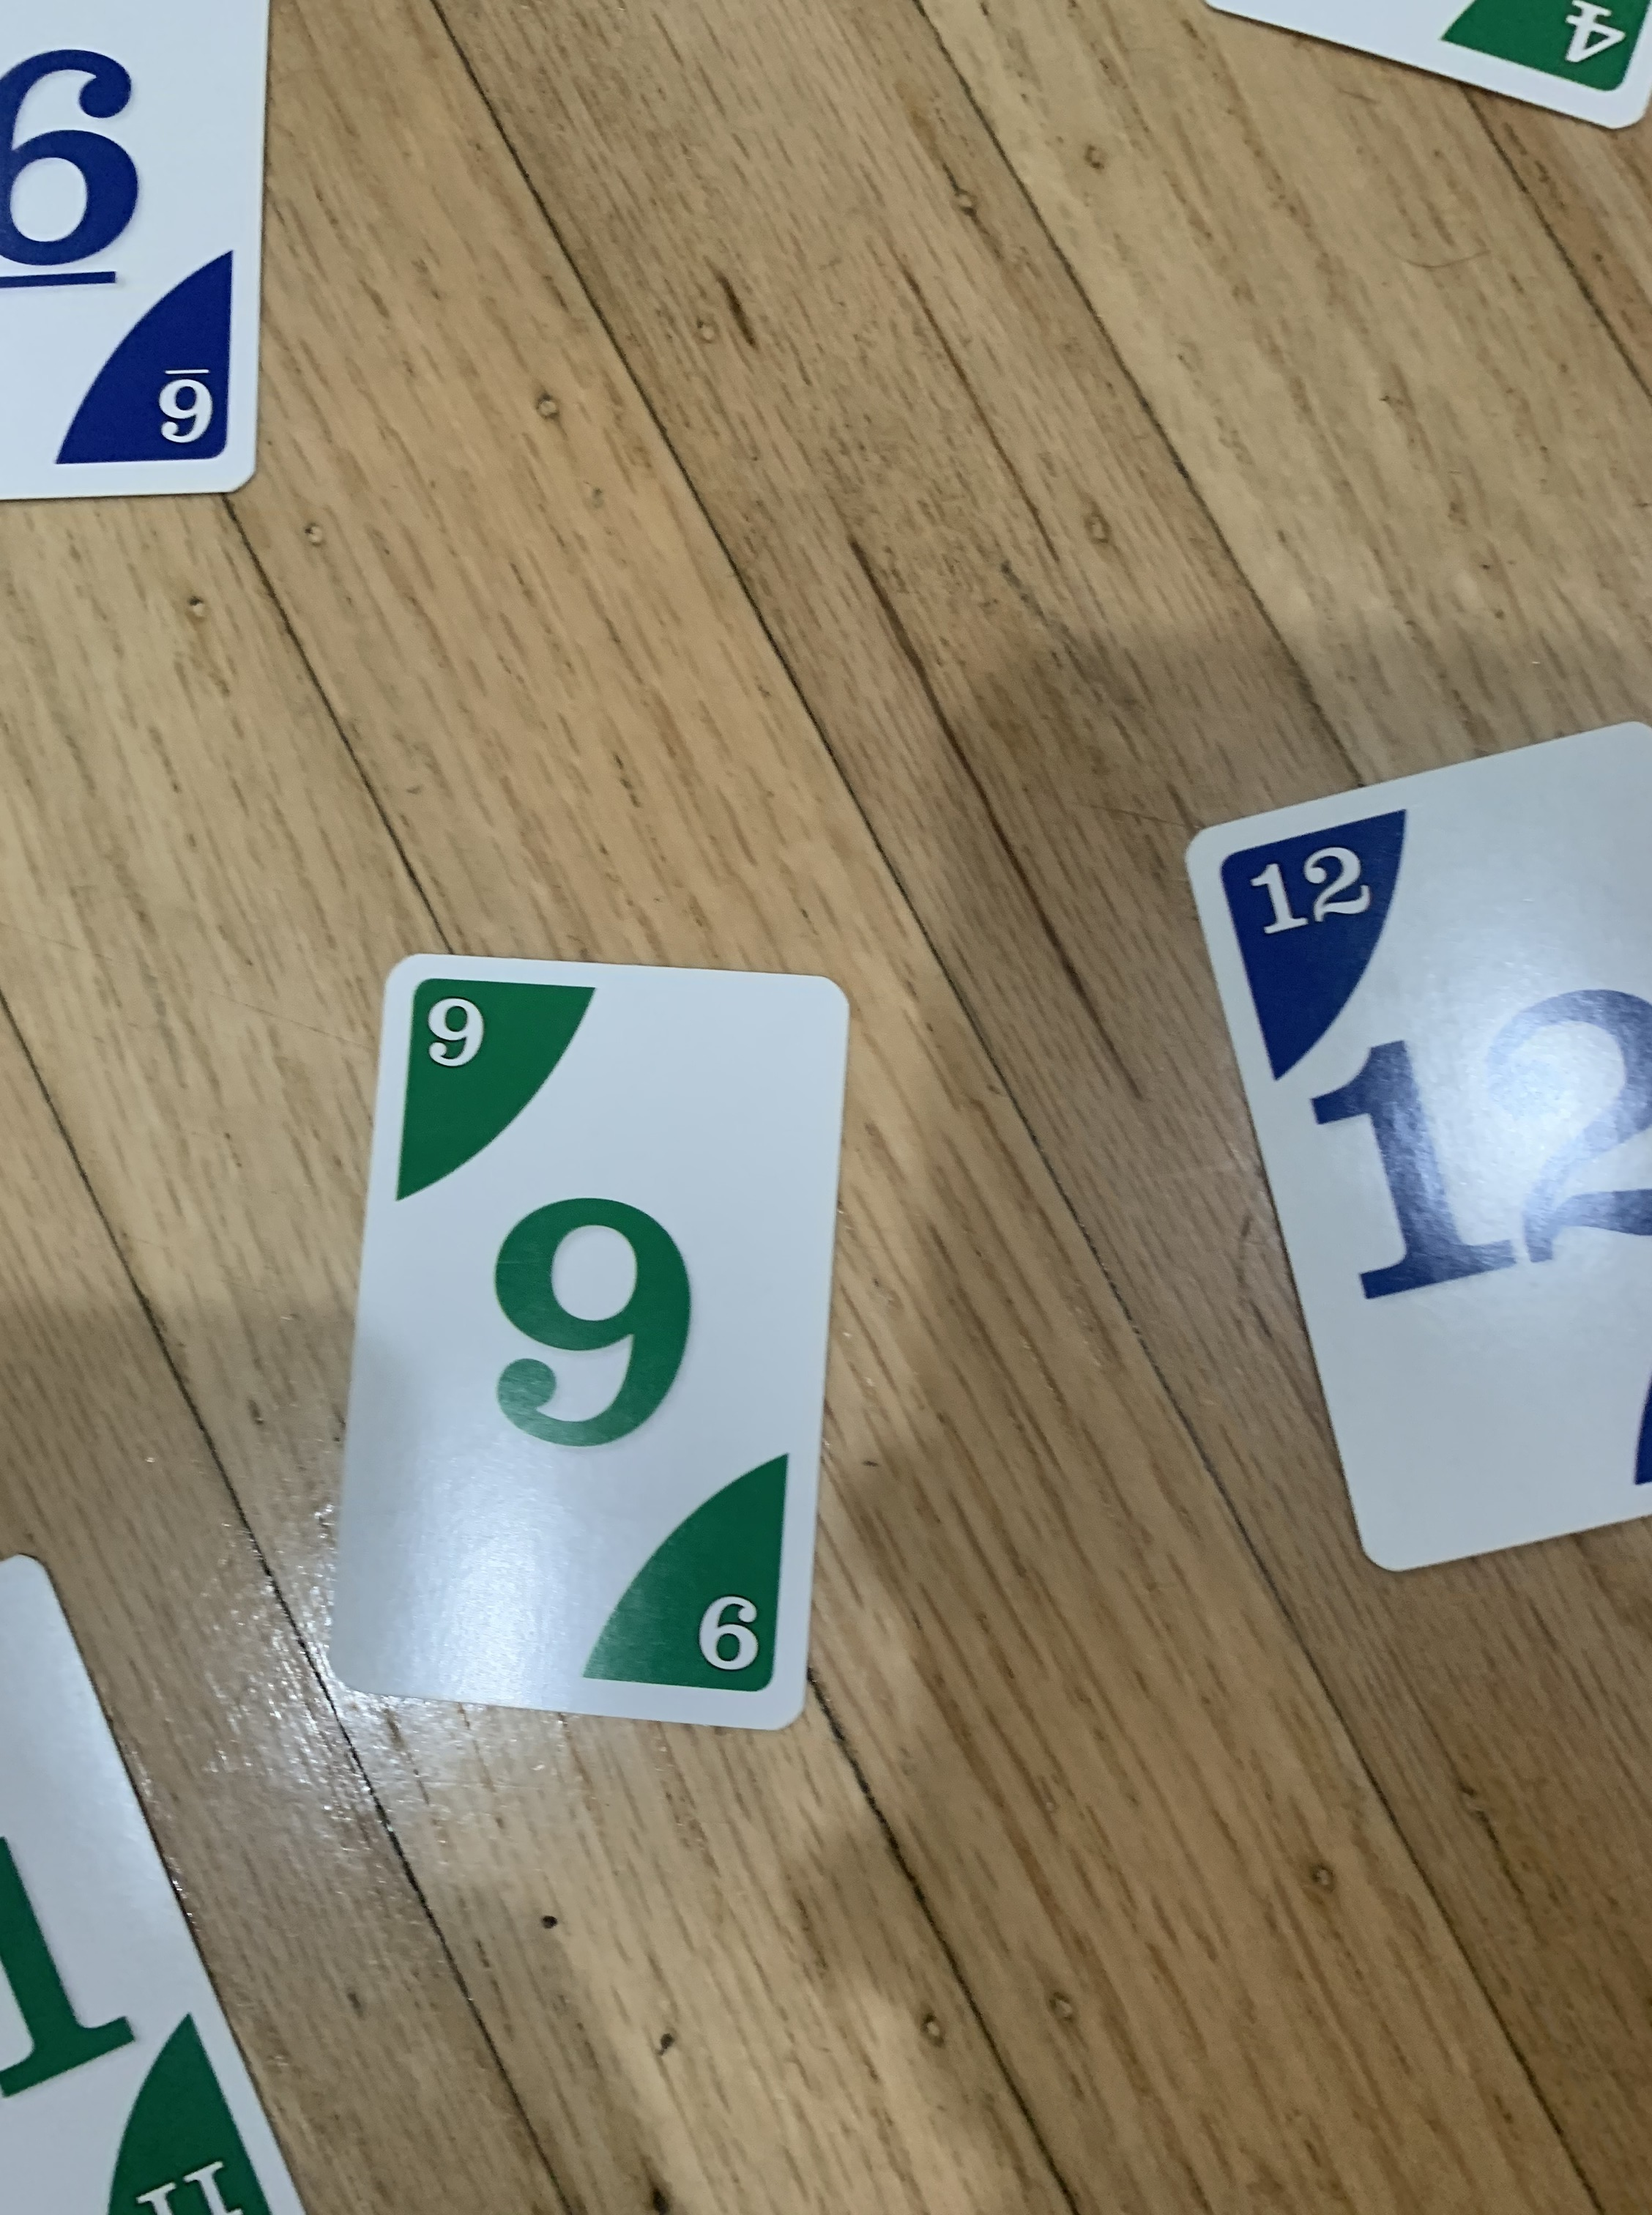nine: (321, 939, 883, 1757)
twelve: (1170, 696, 1652, 1587)
